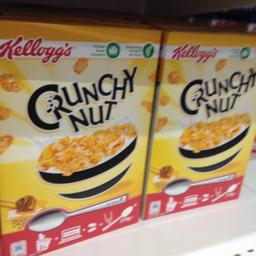cereal: (0, 18, 161, 236), (144, 20, 255, 218)
